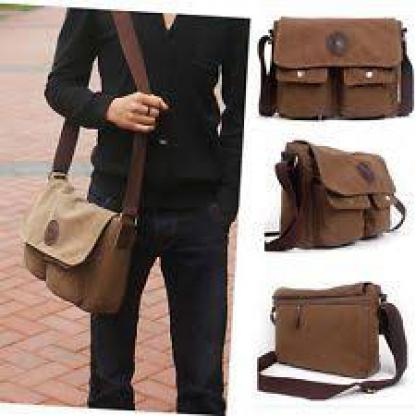morral: (24, 152, 155, 327)
